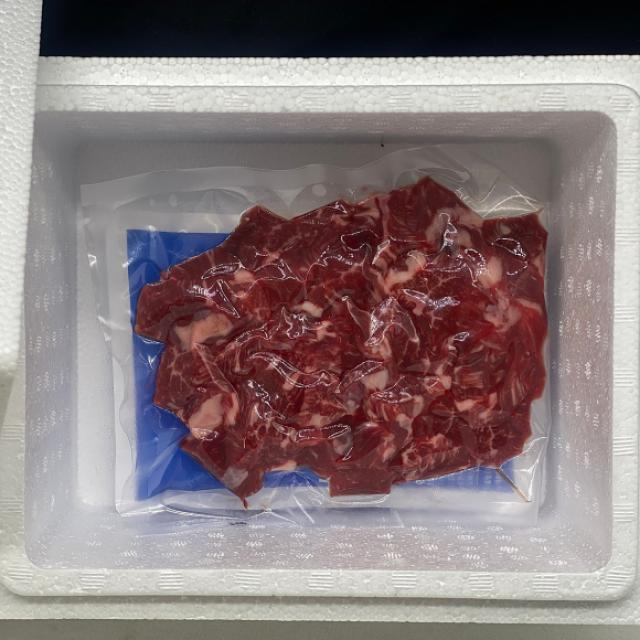beef: (158, 200, 546, 481)
